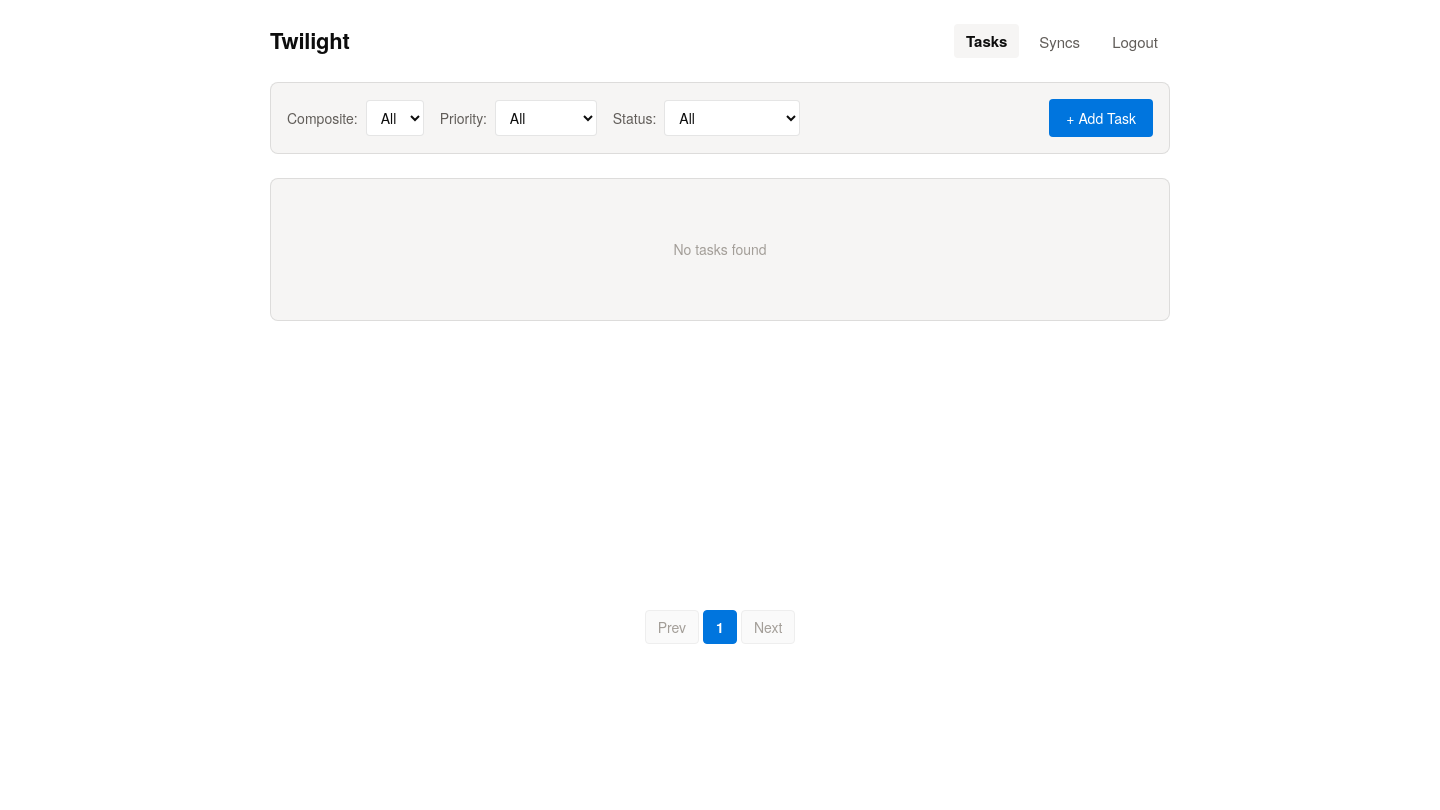
Dashboard › creates a task with a timestamp rounded down to ten minutes
Check: the text "No tasks found" is shown, box [270,178,1170,321]
Click the button "+ Add Task": (1101, 118) [1049,99,1153,137]
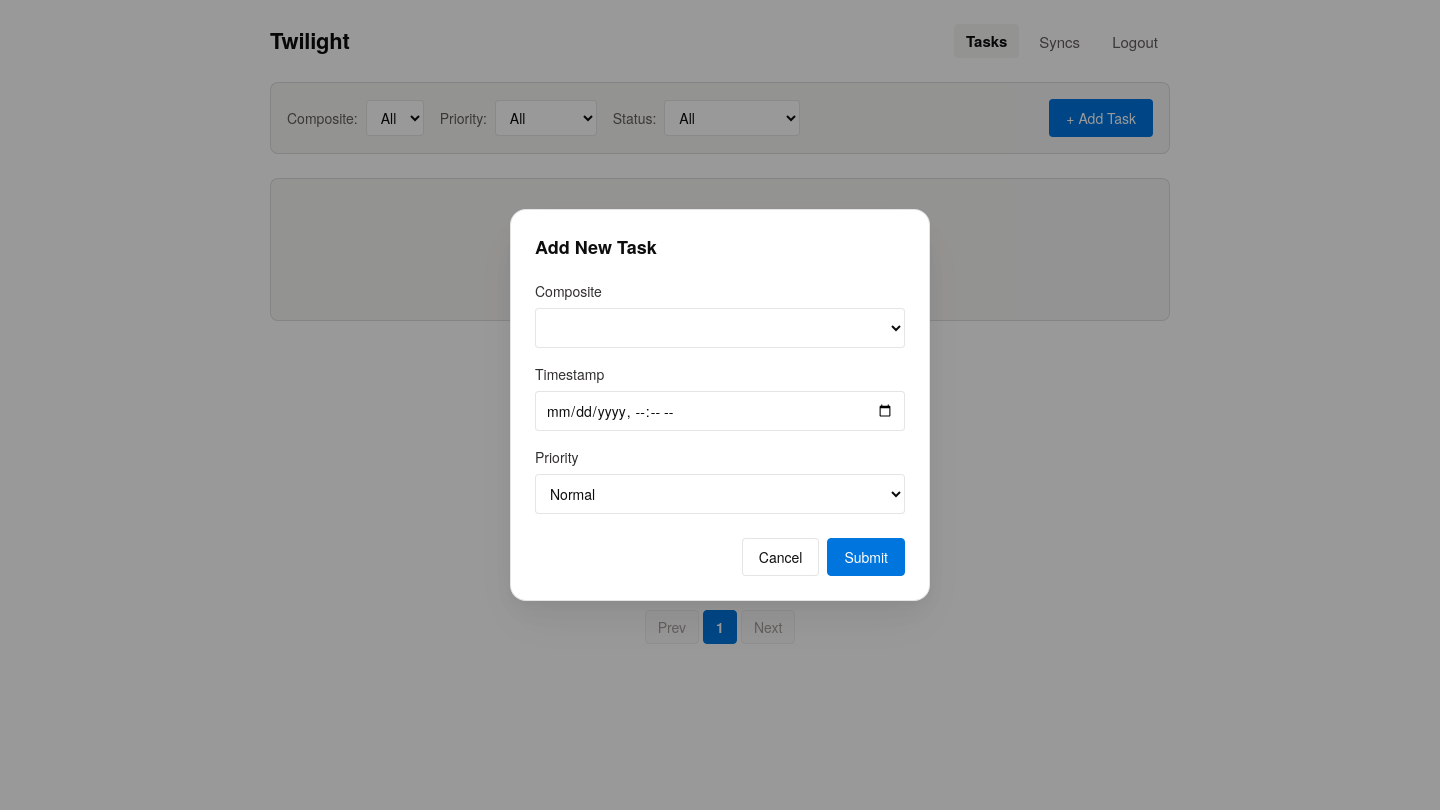
Check: the text "Add New Task" is shown, box [535,234,657,260]
In the field: (720, 411) [535,391,905,431], type "2025-04-20T04:12"
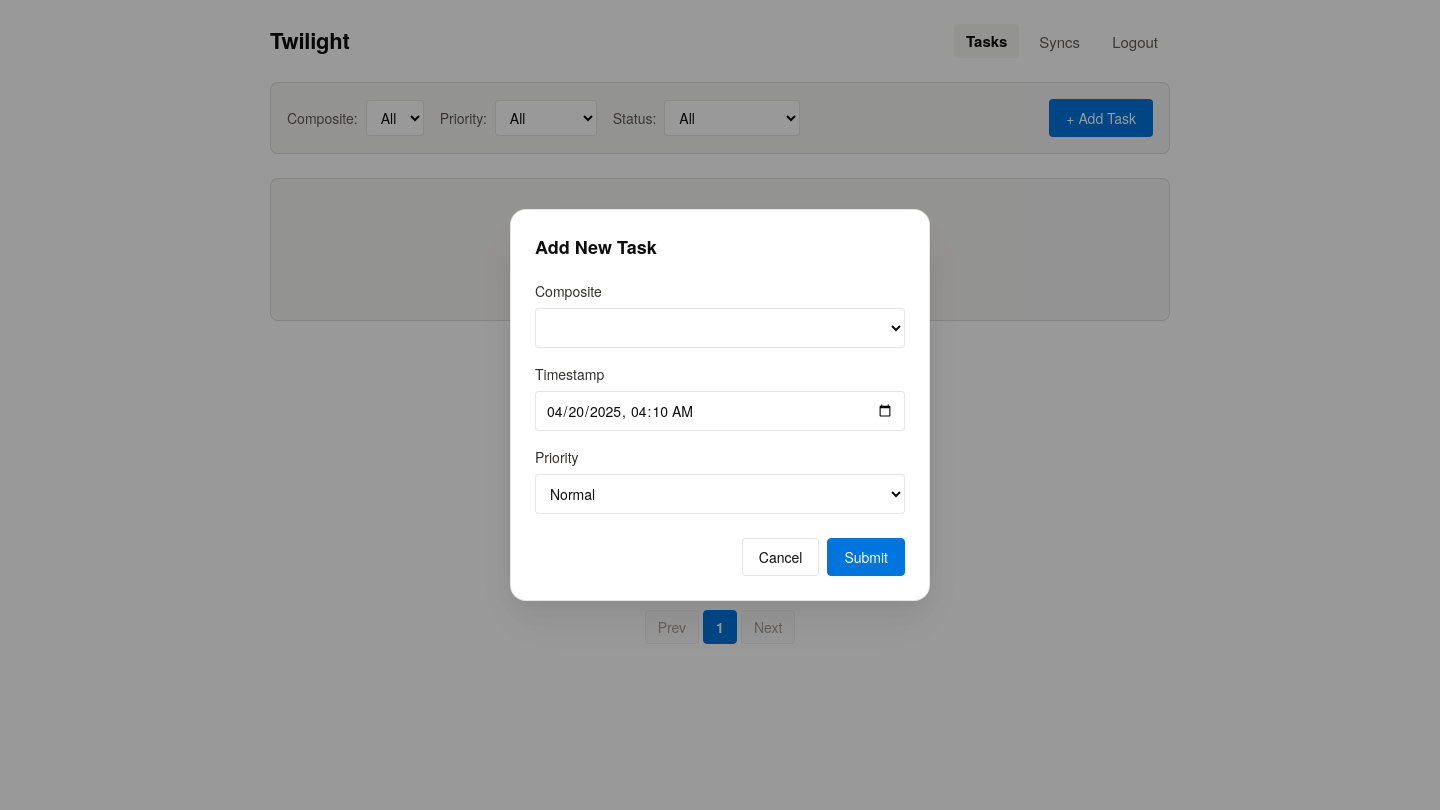
Check: the field holds "2025-04-20T04:10", box [535,391,905,431]
Click the button "Submit": (866, 557) [827,538,905,576]
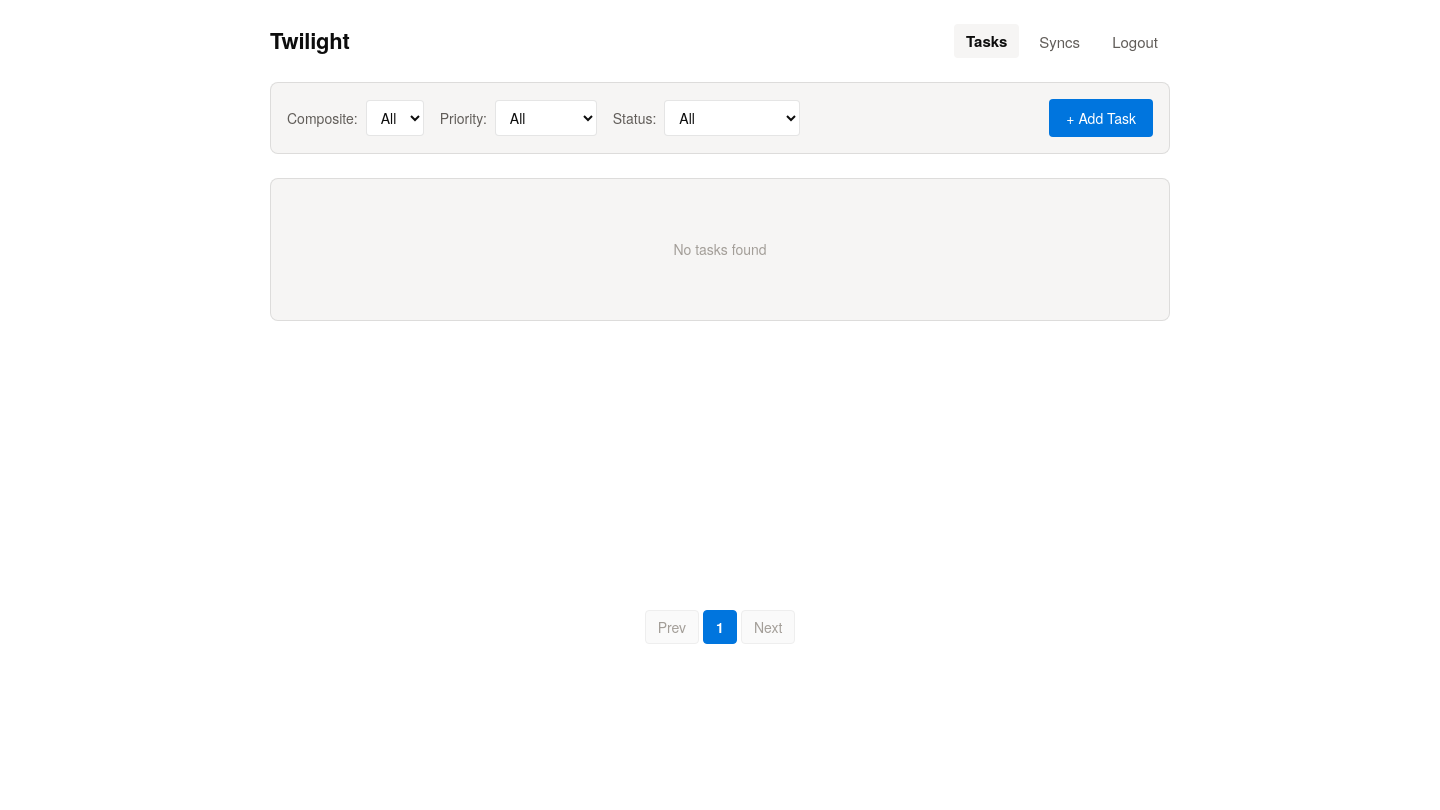
Check: the text "Add New Task" is gone
